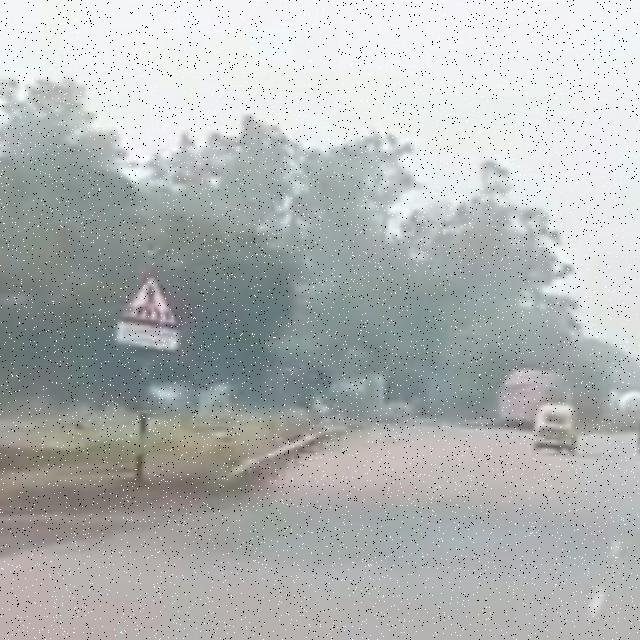Pedestrain_crossing: (120, 276, 180, 326)
